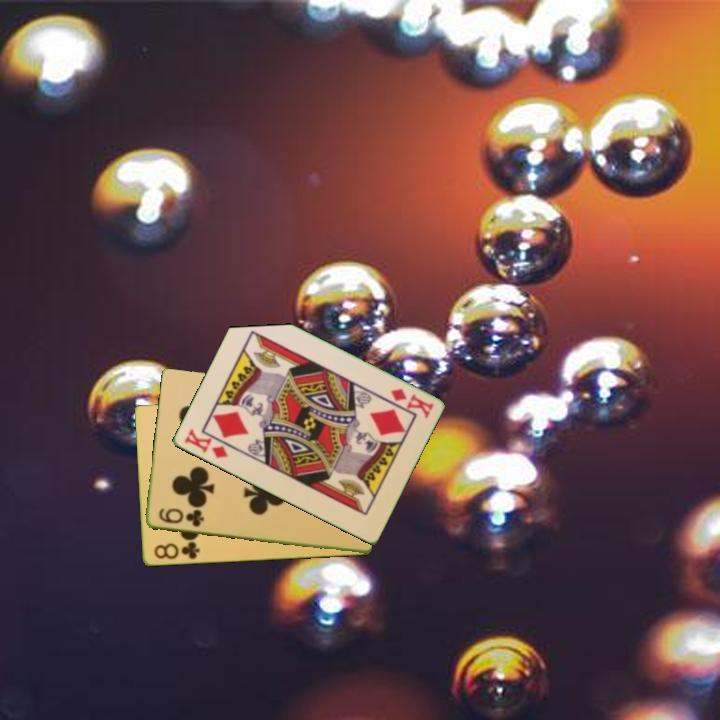6c: (155, 505, 207, 530)
8c: (150, 538, 202, 563)
Kd: (180, 425, 231, 462), (387, 385, 436, 421)
